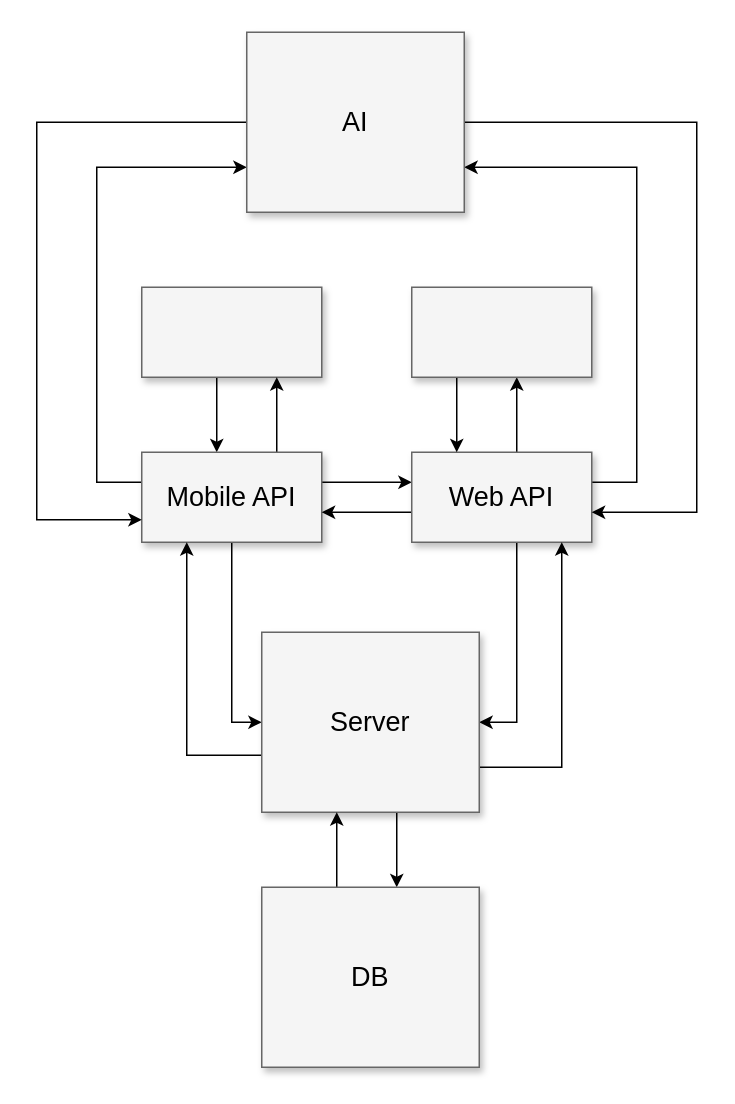
The diagram is 735 pixels wide and 1104 high, and some of its shapes have lost their labels. Each missing label, with the centre of its shape:
"Mobile" goes at pixel 232 334.
"Web" goes at pixel 502 334.
